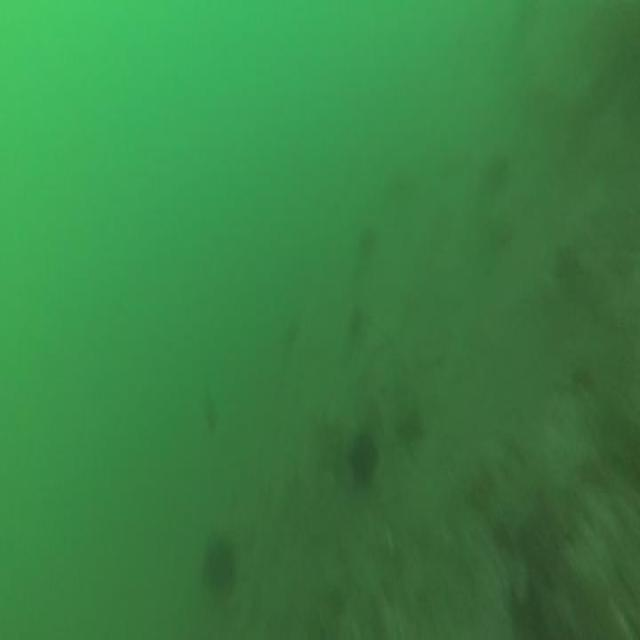echinus: (196, 526, 240, 601), (345, 421, 381, 496)
starfish: (396, 403, 426, 453)
